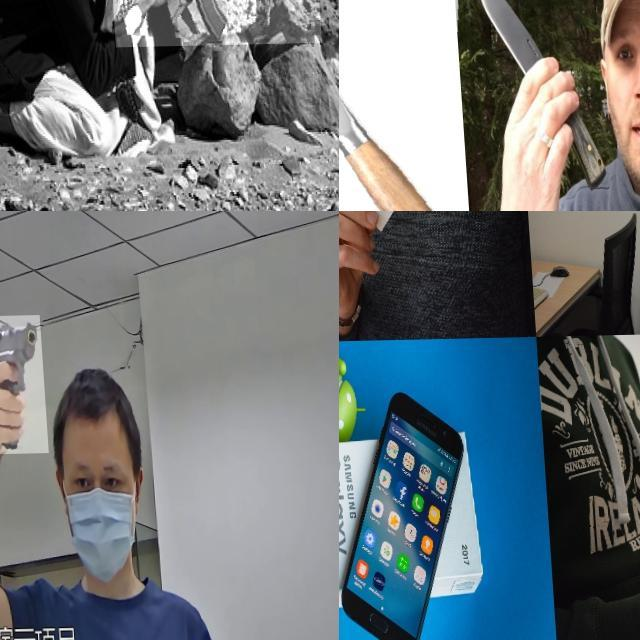-: (339, 0, 505, 211), (471, 0, 604, 199)
gun-knife-thesis - v11 Yolov5 augmented: (104, 0, 317, 63), (0, 315, 43, 454)
